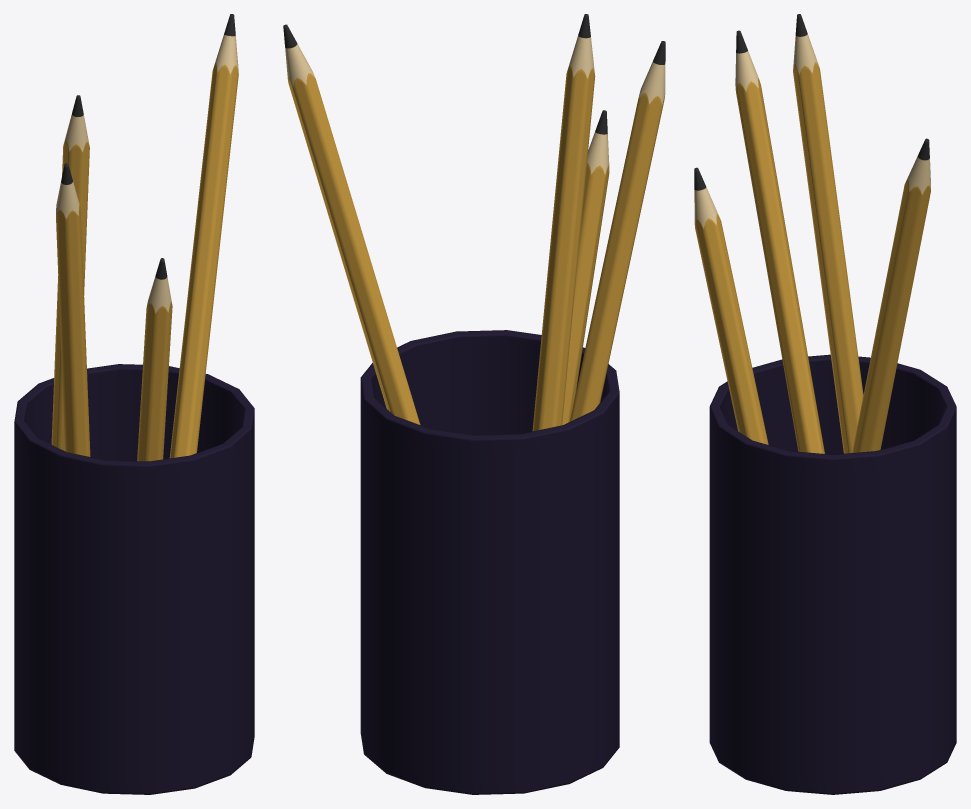
Rendered from pencil_holder_1.glb.
3 renders of one model, left to right at view 1: azimuth 30°, elevation 25°; view 2: azimuth 150°, elevation 25°; view 3: azimuth 270°, elevation 25°, orthographic. The views are drawn at different scales.
Parts seen in each view (by area): view 1: cup.001, pencil.001, pencil.019, pencil.020, pencil.021; view 2: cup.001, pencil.021, pencil.001, pencil.019, pencil.020; view 3: cup.001, pencil.021, pencil.019, pencil.001, pencil.020.
Boxes of the visible parts, <box> form: cup.001: <box>14,364,254,794</box>; pencil.001: <box>169,14,238,458</box>; pencil.019: <box>56,163,90,456</box>; pencil.020: <box>137,258,172,461</box>; pencil.021: <box>51,95,89,450</box>; cup.001: <box>360,330,619,794</box>; pencil.021: <box>532,14,595,431</box>; pencil.001: <box>283,24,420,424</box>; pencil.019: <box>569,41,665,421</box>; pencil.020: <box>562,110,609,425</box>; cup.001: <box>709,354,956,794</box>; pencil.021: <box>793,14,863,453</box>; pencil.019: <box>735,30,824,453</box>; pencil.001: <box>852,138,930,452</box>; pencil.020: <box>694,167,768,444</box>.
Bounding box in the file's own units: 0.079 × 0.1936 × 0.0665.
